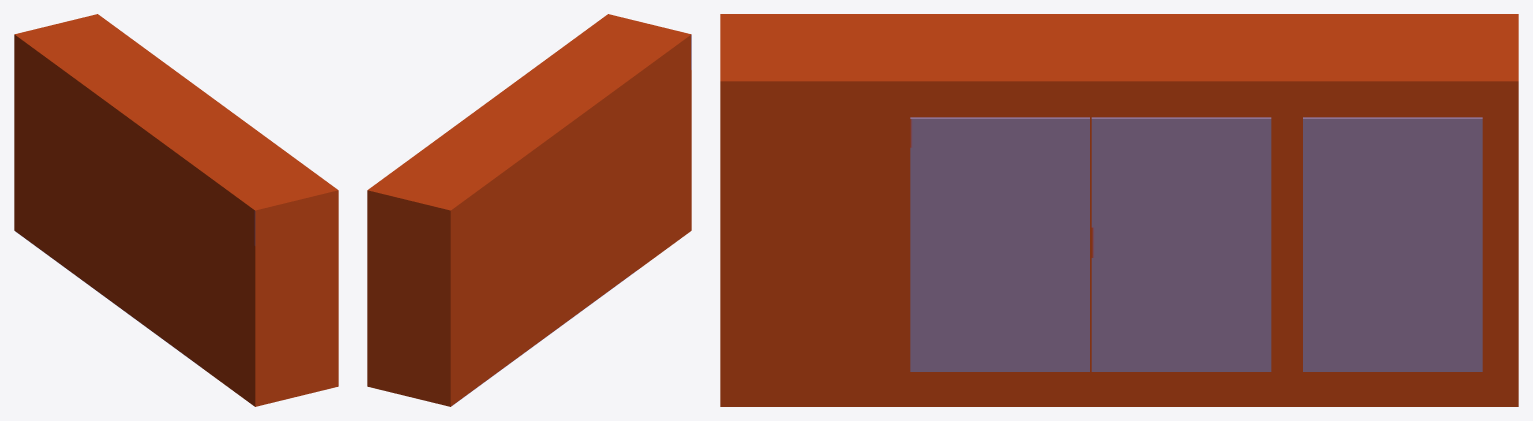
File: cenArribaIzq.obj
3 views of the same model, side by side, from view 1: azimuth 30°, elevation 25°; view 2: azimuth 150°, elevation 25°; view 3: azimuth 270°, elevation 25° (orthographic). The views are drawn at different scales.
Visible parts, largest first — view 1: Cube.059_Cube.063; view 2: Cube.059_Cube.063; view 3: Cube.059_Cube.063.
Boxes of the visible parts, x1,y1,x2,y2 form: Cube.059_Cube.063: (14, 14, 338, 406); Cube.059_Cube.063: (367, 14, 691, 406); Cube.059_Cube.063: (720, 14, 1518, 406).
Size of the model in its own units: 3.82 by 8.38 by 18.62.
Materials: 1 (1 with a texture image).
